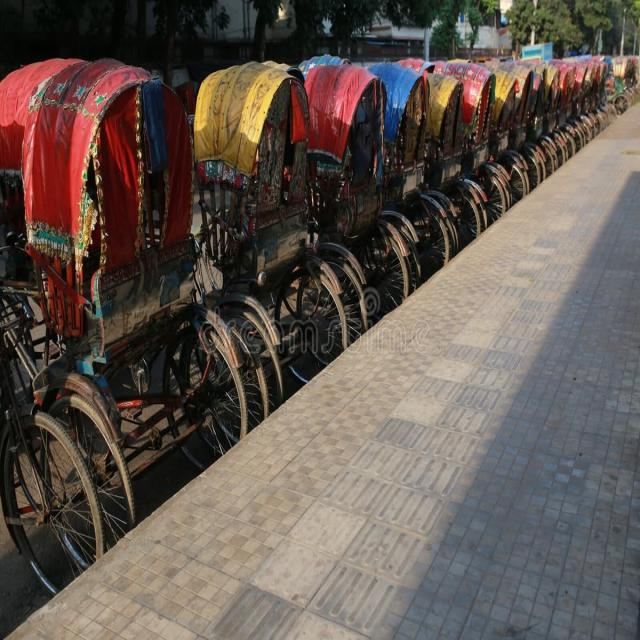Rickshaw: (1, 31, 251, 584), (135, 24, 351, 424), (234, 43, 416, 425), (298, 37, 434, 368), (367, 37, 490, 321), (415, 42, 581, 237), (415, 40, 524, 298), (497, 50, 632, 233), (454, 43, 540, 274), (492, 57, 611, 165), (507, 43, 611, 165), (534, 31, 629, 156)
